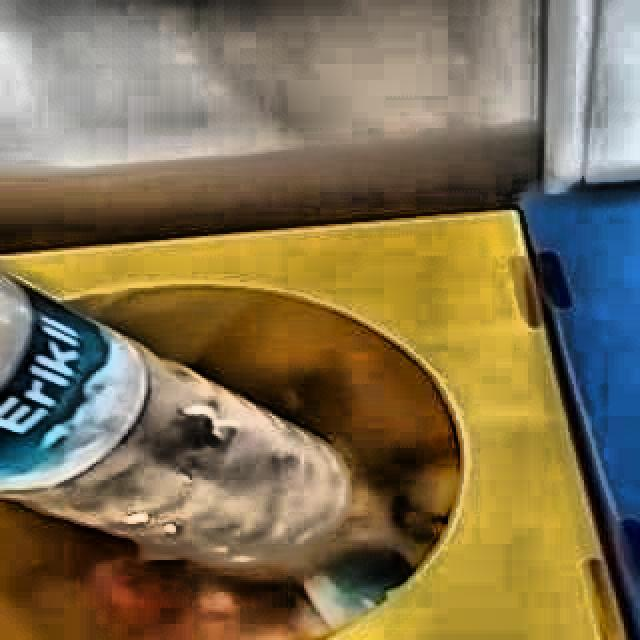plastic: (0, 265, 354, 564)
